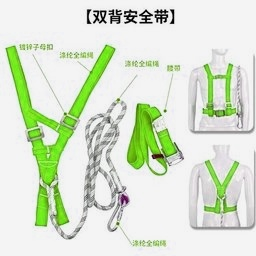safety belt: (4, 31, 113, 237), (196, 158, 247, 220), (197, 64, 247, 125)
